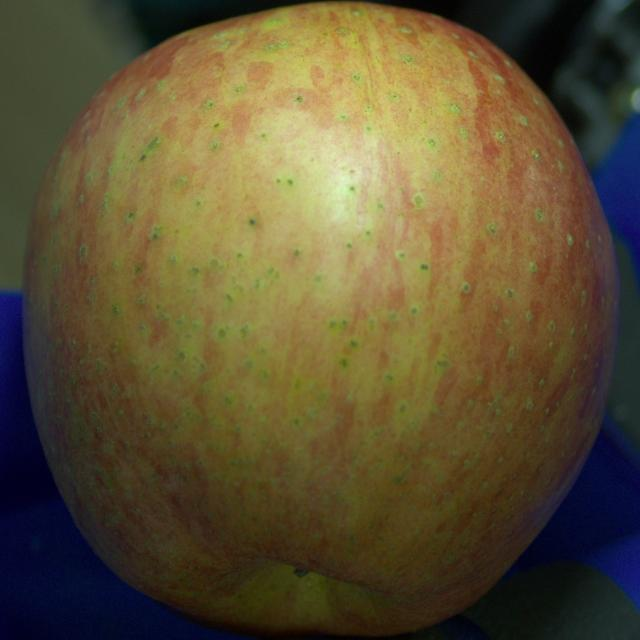apple: (23, 2, 619, 636)
